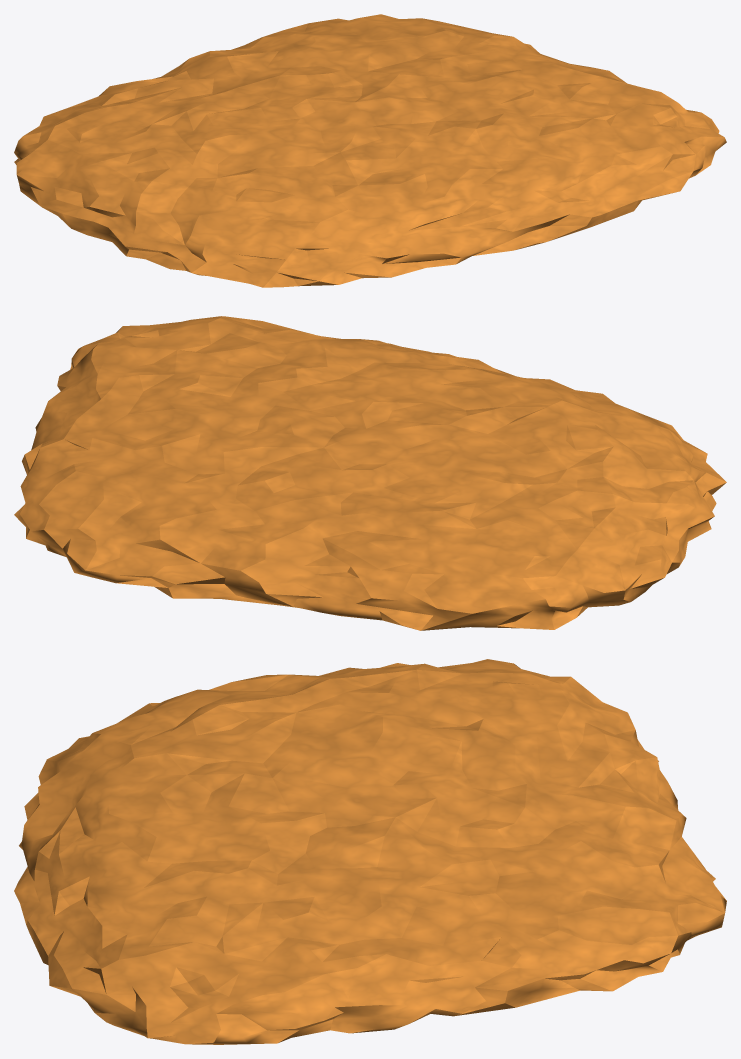
Rendered from NewIsland.fbx.
3 views of the same model, one above another, from view 1: azimuth 30°, elevation 25°; view 2: azimuth 150°, elevation 25°; view 3: azimuth 270°, elevation 25° (orthographic). The views are drawn at different scales.
Visible parts, largest first — view 1: Icosphere; view 2: Icosphere; view 3: Icosphere.
Part boxes in pixels (x1,y1,x2,y2): Icosphere: (14, 14, 726, 287); Icosphere: (14, 316, 726, 630); Icosphere: (14, 659, 726, 1044).
Bounding box in the file's own units: 357 × 27.16 × 288.
1 material, 1 textured.
